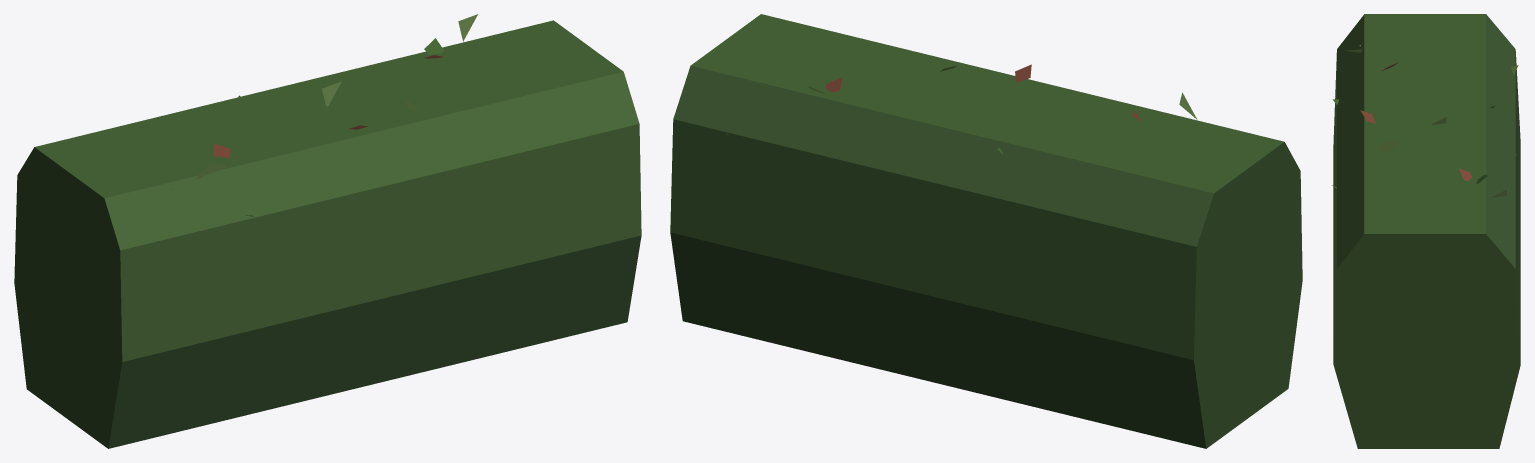
Rendered from sg-hedge-2m.glb.
3 renders of one model, left to right at view 1: azimuth 30°, elevation 25°; view 2: azimuth 150°, elevation 25°; view 3: azimuth 270°, elevation 25°, orthographic. The views are drawn at different scales.
Visible parts, largest first — view 1: lod1_foliage, lod0_foliage; view 2: lod1_foliage, lod0_foliage; view 3: lod1_foliage, lod0_foliage.
Boxes of the visible parts, <box> form: lod1_foliage: <box>14,14,641,448</box>; lod0_foliage: <box>25,38,444,441</box>; lod1_foliage: <box>670,14,1302,448</box>; lod0_foliage: <box>726,64,1291,438</box>; lod1_foliage: <box>1333,14,1520,448</box>; lod0_foliage: <box>1332,45,1518,448</box>.
Size of the model in its own units: 2 by 0.96 by 0.7289.
